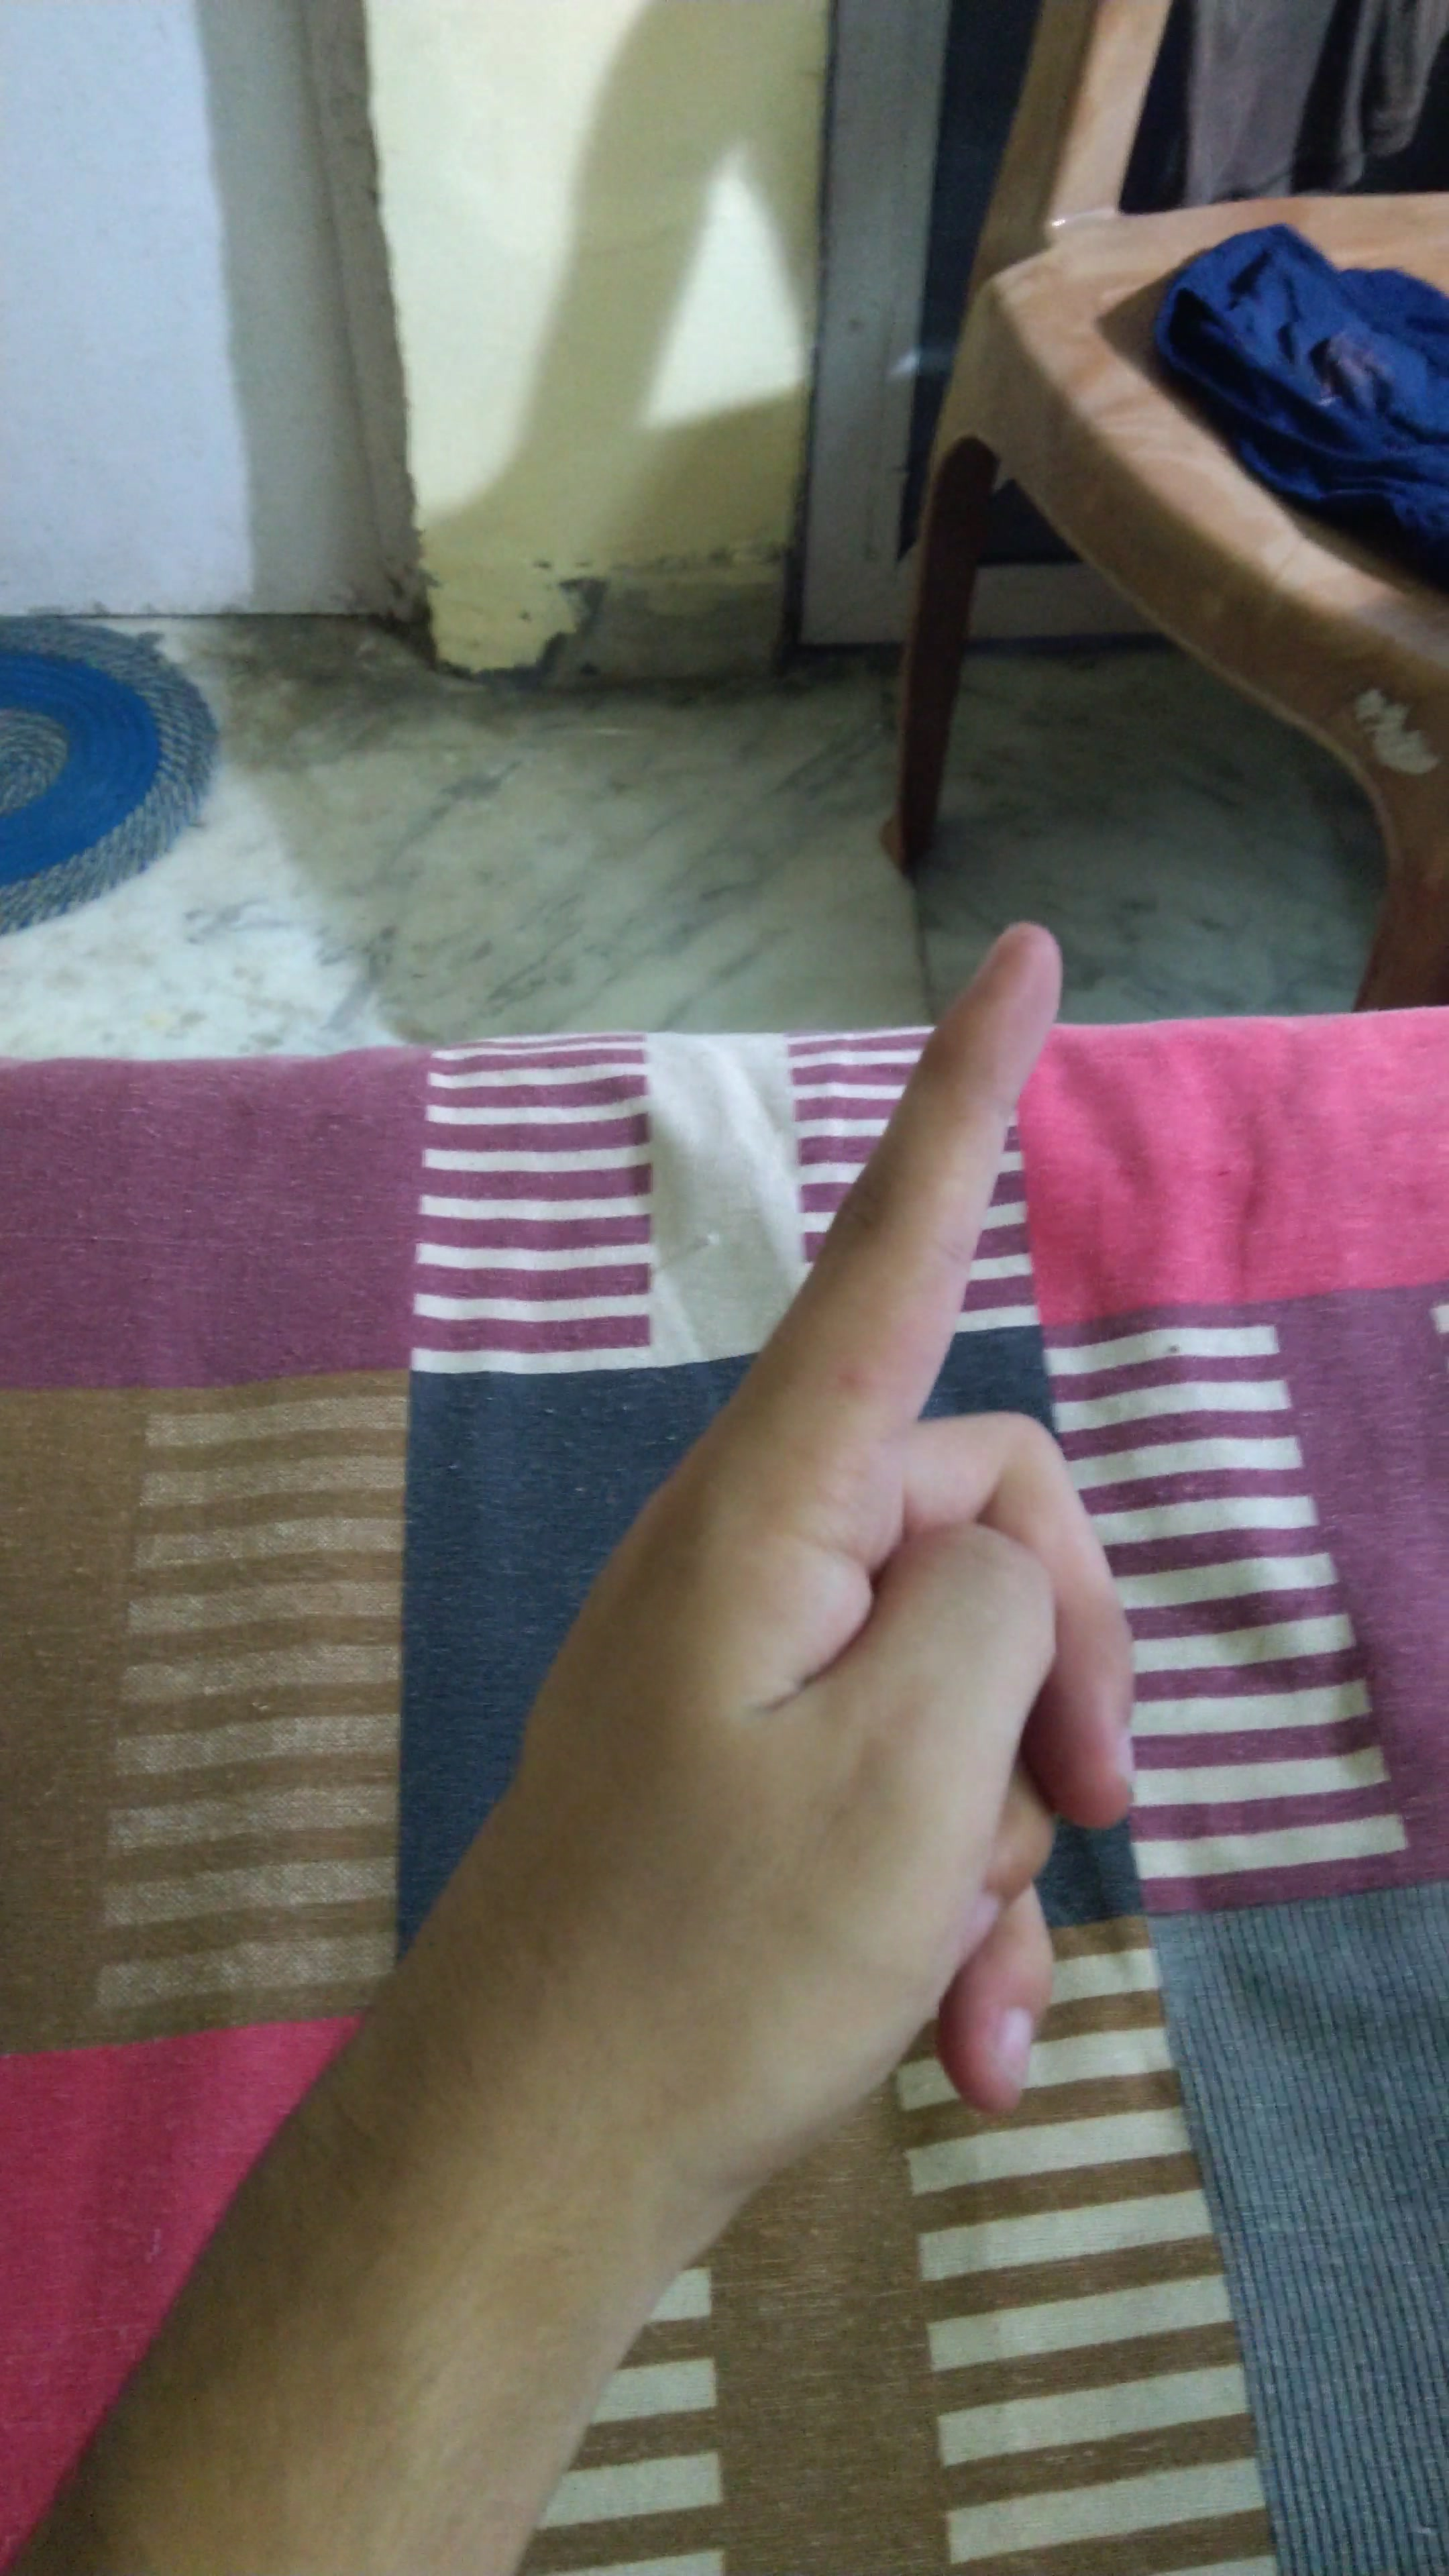hand: (396, 874, 1235, 2238)
